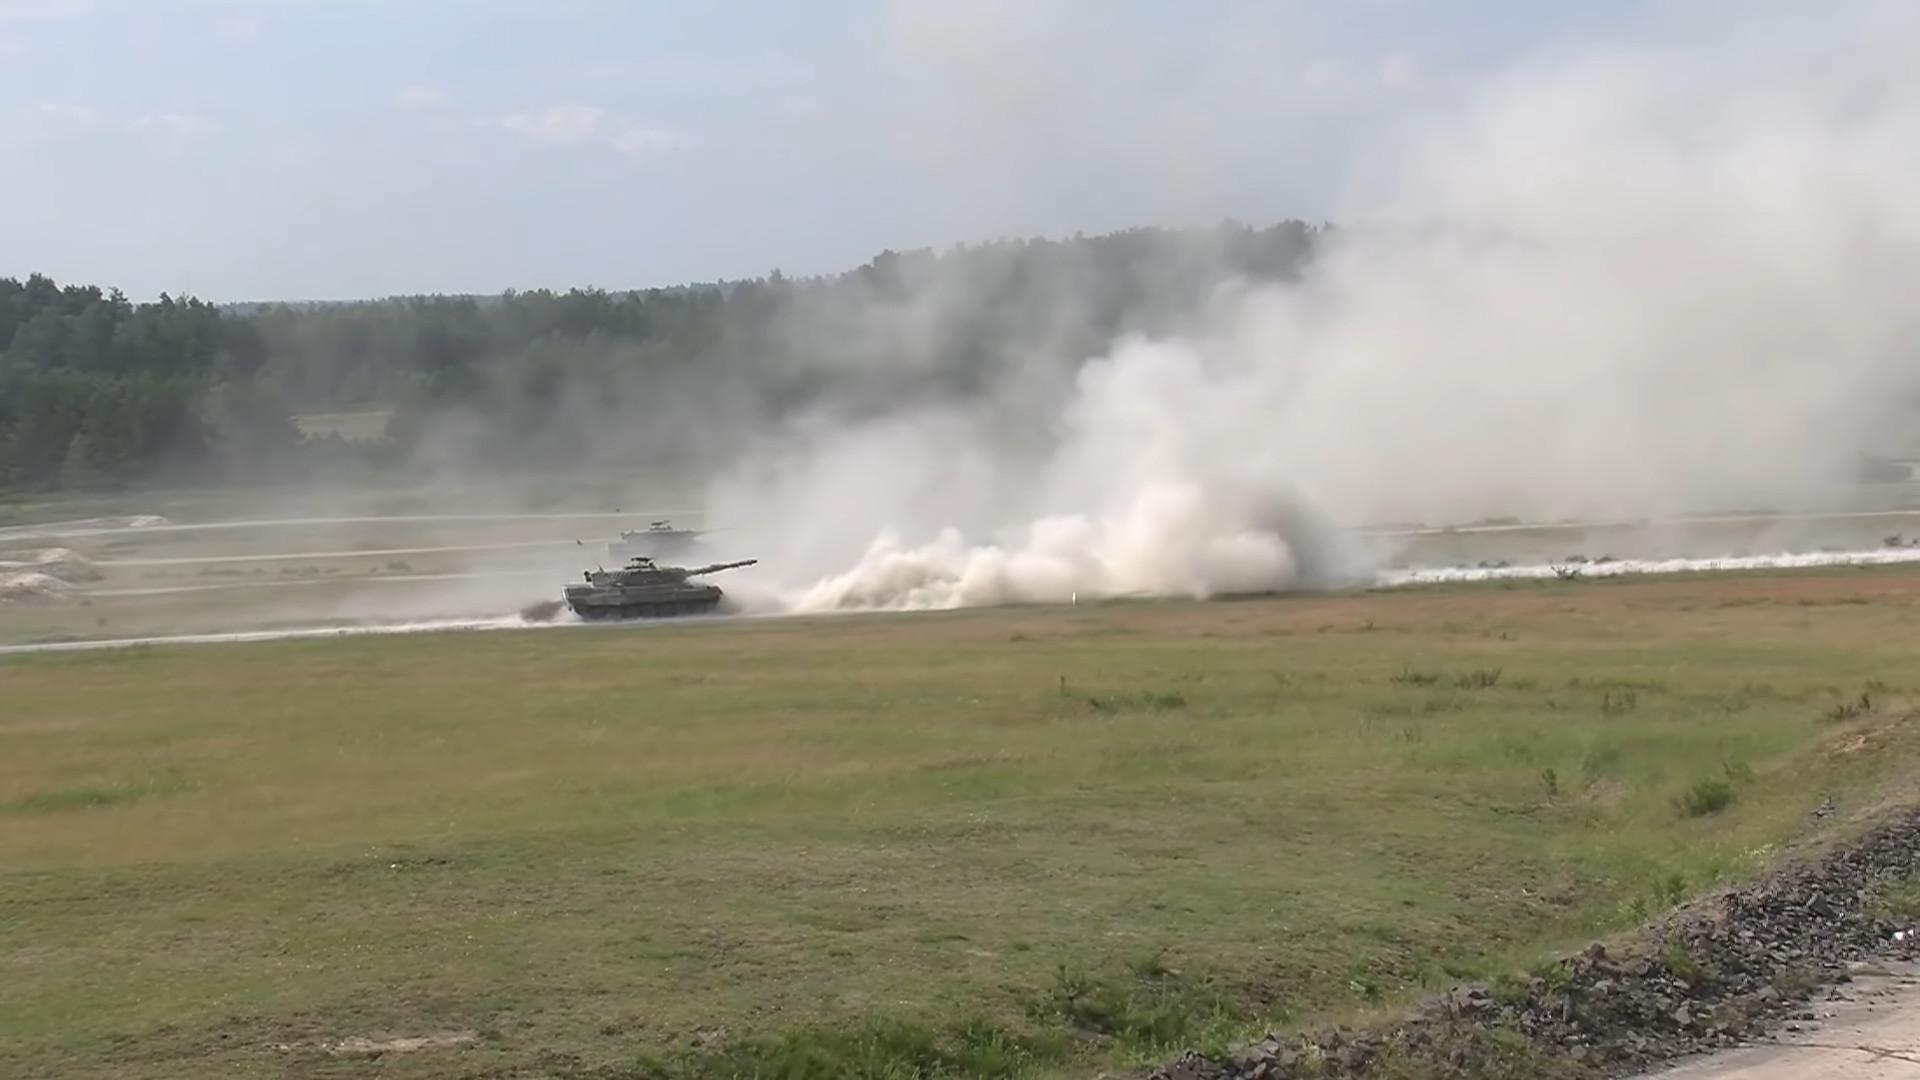tank: (564, 559, 757, 622), (609, 527, 731, 554)
